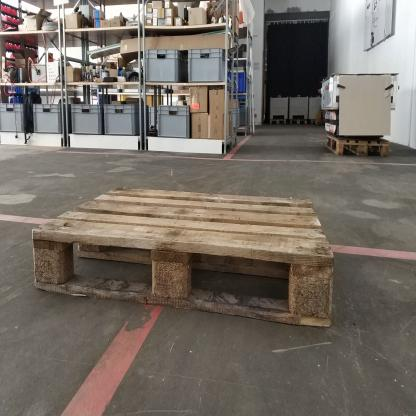BoxFace: (28, 181, 340, 332), (324, 130, 391, 159)
